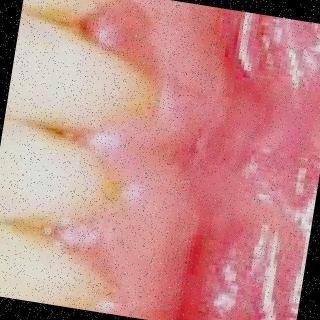Gum Swelling: (53, 0, 272, 317)
